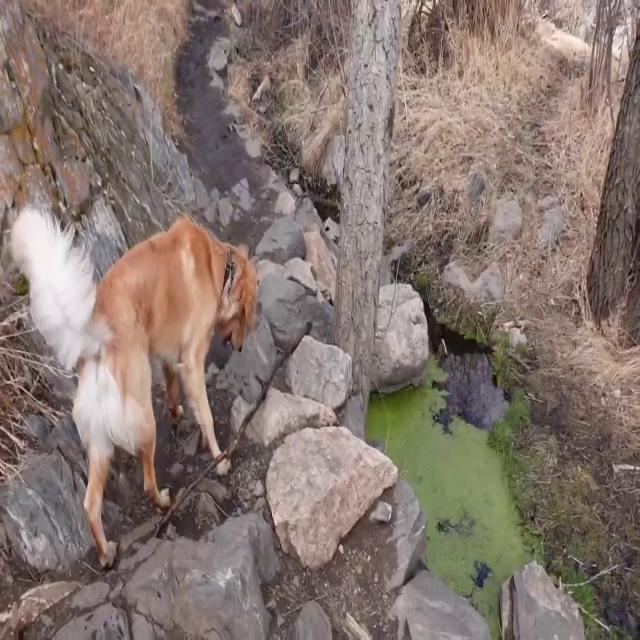Dog: (11, 206, 257, 572)
